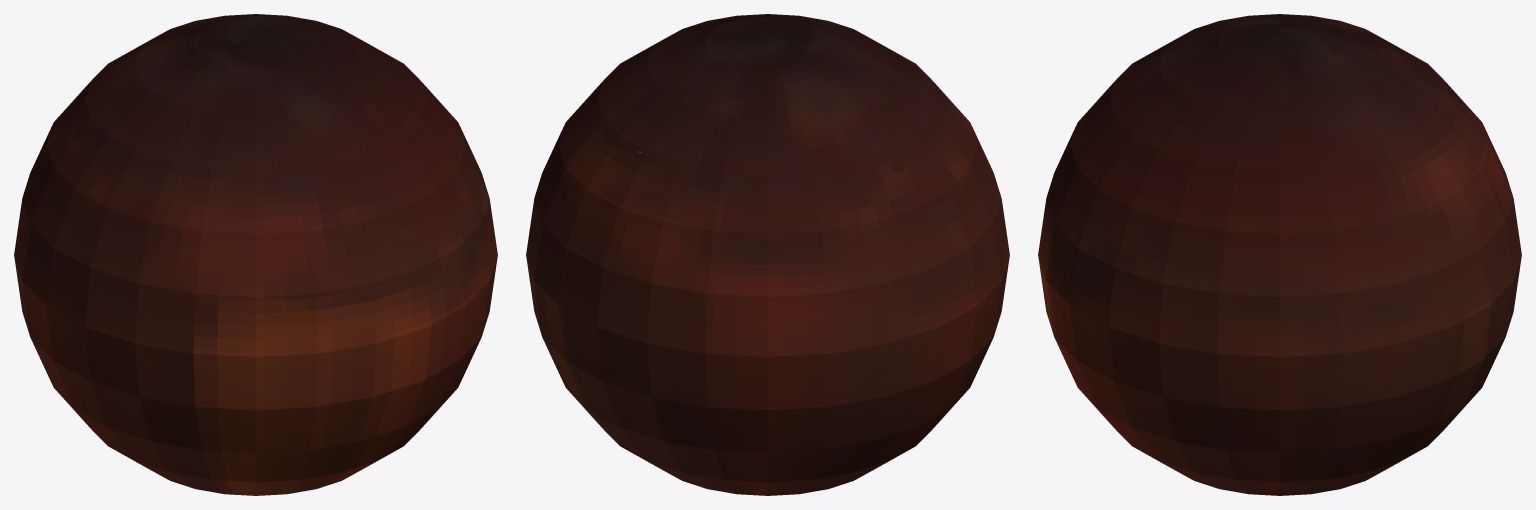
File: cinder.glb
The picture shows the model from 3 angles, left to right: view 1: azimuth 30°, elevation 25°; view 2: azimuth 150°, elevation 25°; view 3: azimuth 270°, elevation 25°; orthographic projection.
Visible parts, largest first — view 1: sky_cinder; view 2: sky_cinder; view 3: sky_cinder.
Part boxes in pixels (bbox=[...]): sky_cinder: bbox=[14, 14, 497, 495]; sky_cinder: bbox=[526, 14, 1009, 495]; sky_cinder: bbox=[1038, 14, 1521, 495].
Bounding box in the file's own units: 18000 × 18000 × 18000.
Materials: 3 (3 with a texture image).
